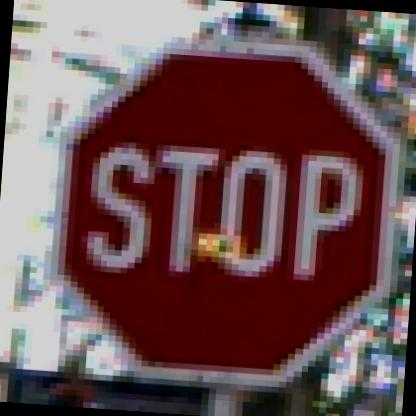stop: (33, 11, 415, 407)
